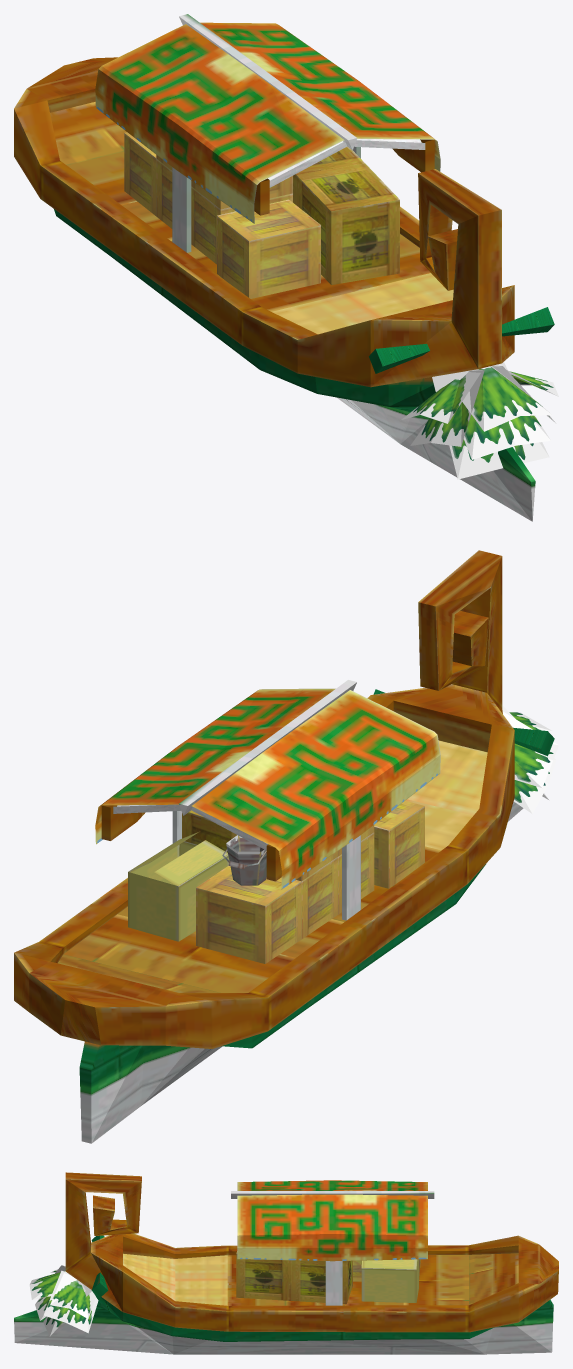
File: shipdolpic_bake.dae
3 renders of one model, top to bottom at view 1: azimuth 30°, elevation 25°; view 2: azimuth 150°, elevation 25°; view 3: azimuth 270°, elevation 25°, orthographic. The views are drawn at different scales.
Visible parts, largest first — view 1: m0, m1, m1_VC; view 2: m0, m1, m1_VC; view 3: m0, m1, m1_VC.
Part boxes in pixels (x1=…): m0: x1=14, y1=14, x2=554, y2=521; m1: x1=95, y1=22, x2=553, y2=462; m1_VC: x1=97, y1=107, x2=558, y2=479; m0: x1=14, y1=550, x2=523, y2=1143; m1: x1=95, y1=688, x2=554, y2=889; m1_VC: x1=97, y1=706, x2=558, y2=888; m0: x1=14, y1=1172, x2=558, y2=1354; m1: x1=32, y1=1180, x2=427, y2=1327; m1_VC: x1=29, y1=1257, x2=426, y2=1336.
Size of the model in its own units: 500 by 620 by 1715.
